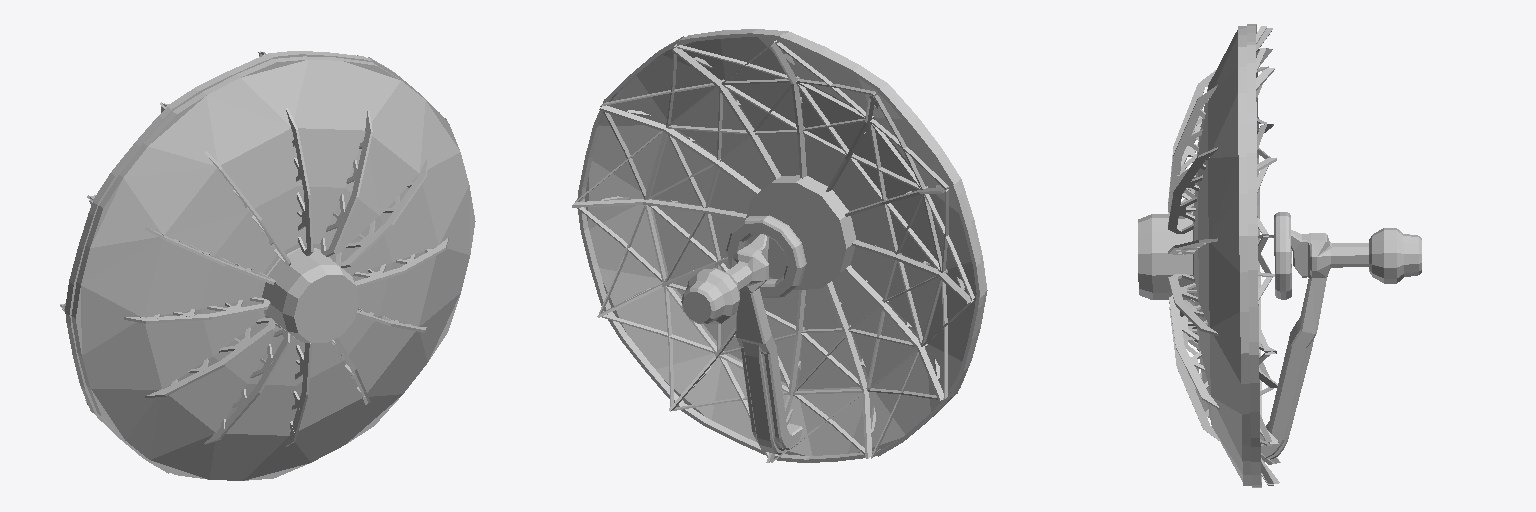
Rendered from RadioDish.obj.
3 views of the same model, side by side, from view 1: azimuth 30°, elevation 25°; view 2: azimuth 150°, elevation 25°; view 3: azimuth 270°, elevation 25° (orthographic).
Parts seen in each view (by area): view 1: RadioDish_Circle.008; view 2: RadioDish_Circle.008; view 3: RadioDish_Circle.008.
Boxes of the visible parts, x1=… form: RadioDish_Circle.008: x1=60, y1=51, x2=475, y2=480; RadioDish_Circle.008: x1=572, y1=29, x2=987, y2=462; RadioDish_Circle.008: x1=1138, y1=24, x2=1421, y2=487.
Bounding box in the file's own units: 2.97 × 2.97 × 1.81.